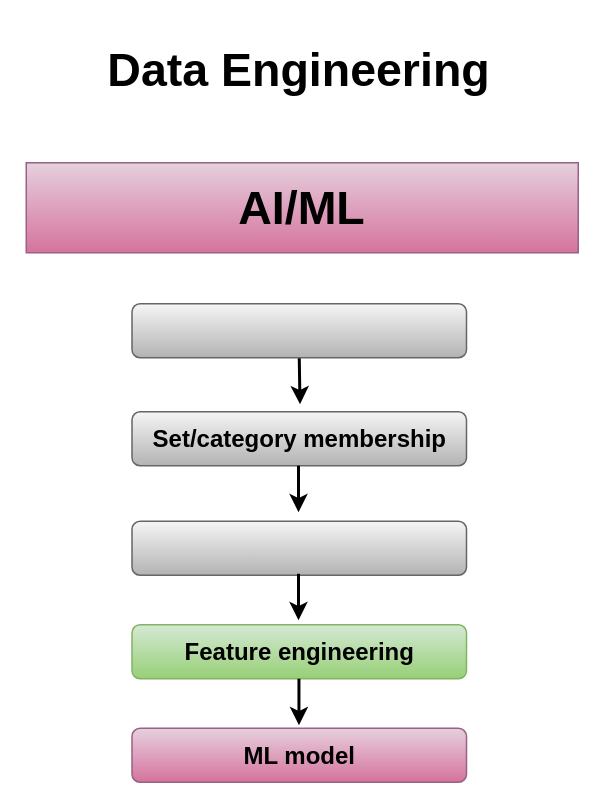
The diagram is 605 pixels wide and 809 high, and some of its shapes have lost their labels. Here are the shapes that lost their labels. From the top down, the centre of each, then its label:
point 298,330: Raw observations
point 298,547: Boolean conditions
